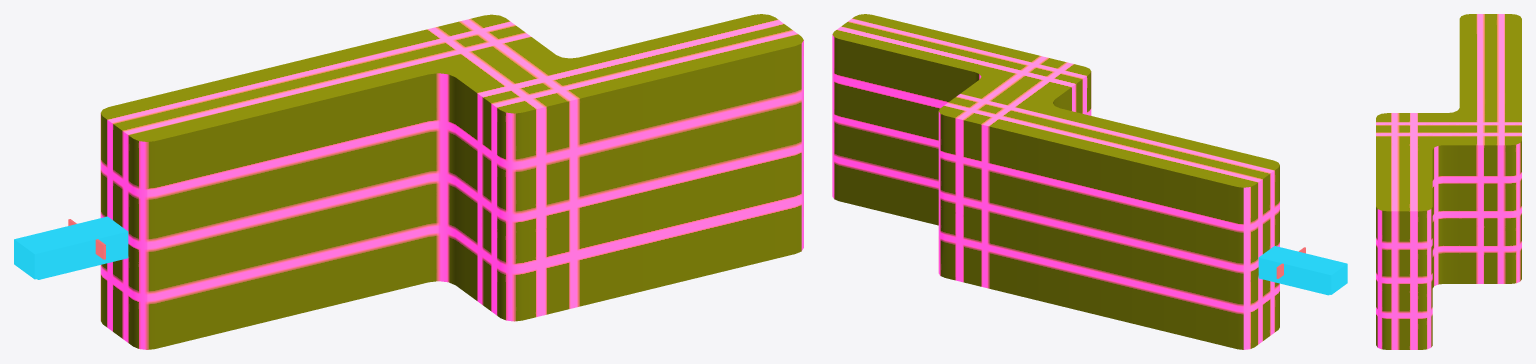
File: Tut1.fbx
3 renders of one model, left to right at view 1: azimuth 30°, elevation 25°; view 2: azimuth 150°, elevation 25°; view 3: azimuth 270°, elevation 25°, orthographic. The views are drawn at different scales.
Parts seen in each view (by area): view 1: Plane.002, Plane; view 2: Plane.002, Plane; view 3: Plane.002.
Boxes of the visible parts, left/top/right/bottom form: Plane.002: left=100, top=14, right=803, bottom=349; Plane: left=14, top=216, right=128, bottom=279; Plane.002: left=832, top=14, right=1279, bottom=349; Plane: left=1258, top=246, right=1347, bottom=294; Plane.002: left=1376, top=14, right=1521, bottom=349.
Bounding box in the file's own units: 31442 × 8934 × 8502.
